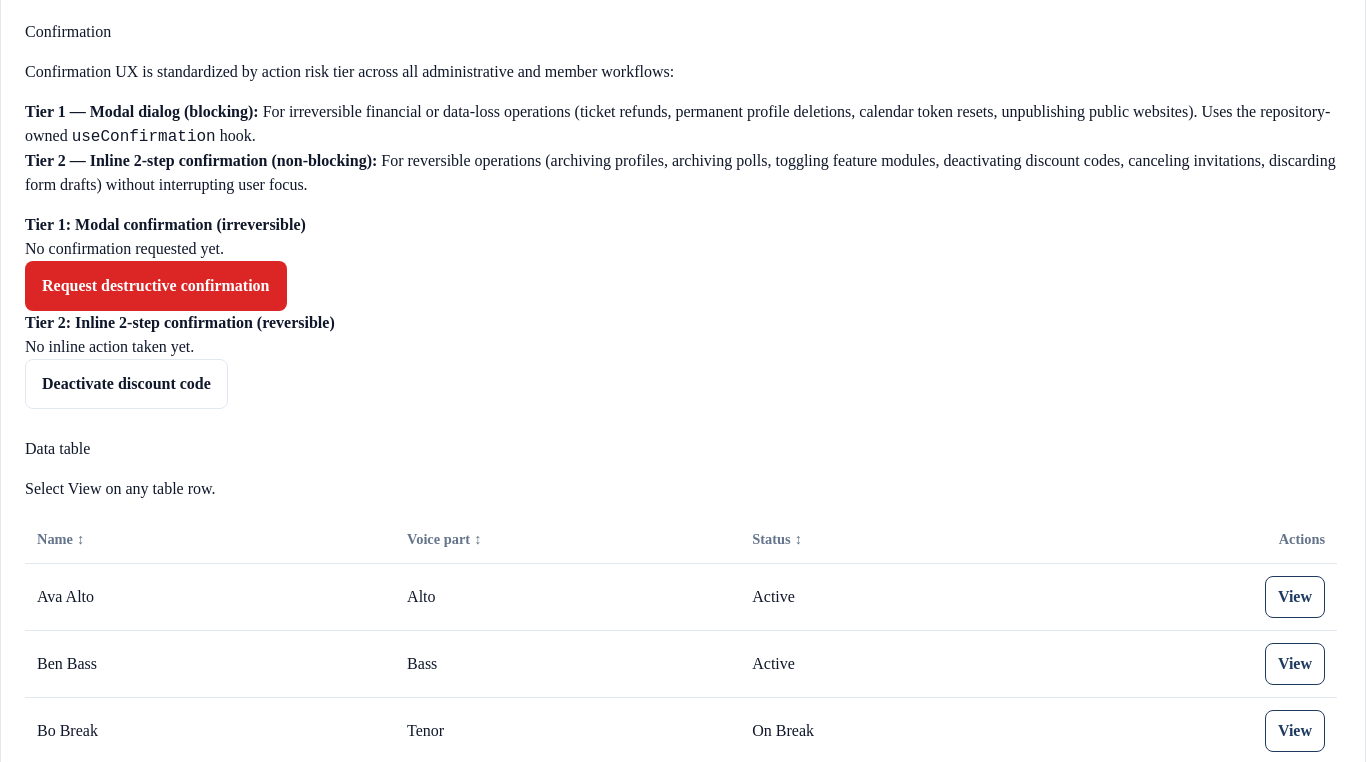
Test case: DesignSystemView tiered confirmation UX › handles Tier 2 inline 2-step confirmation with cancel and confirm flows
(page scrolled)
Click the button "Deactivate discount code" at (126, 384), box [25,359,228,409]
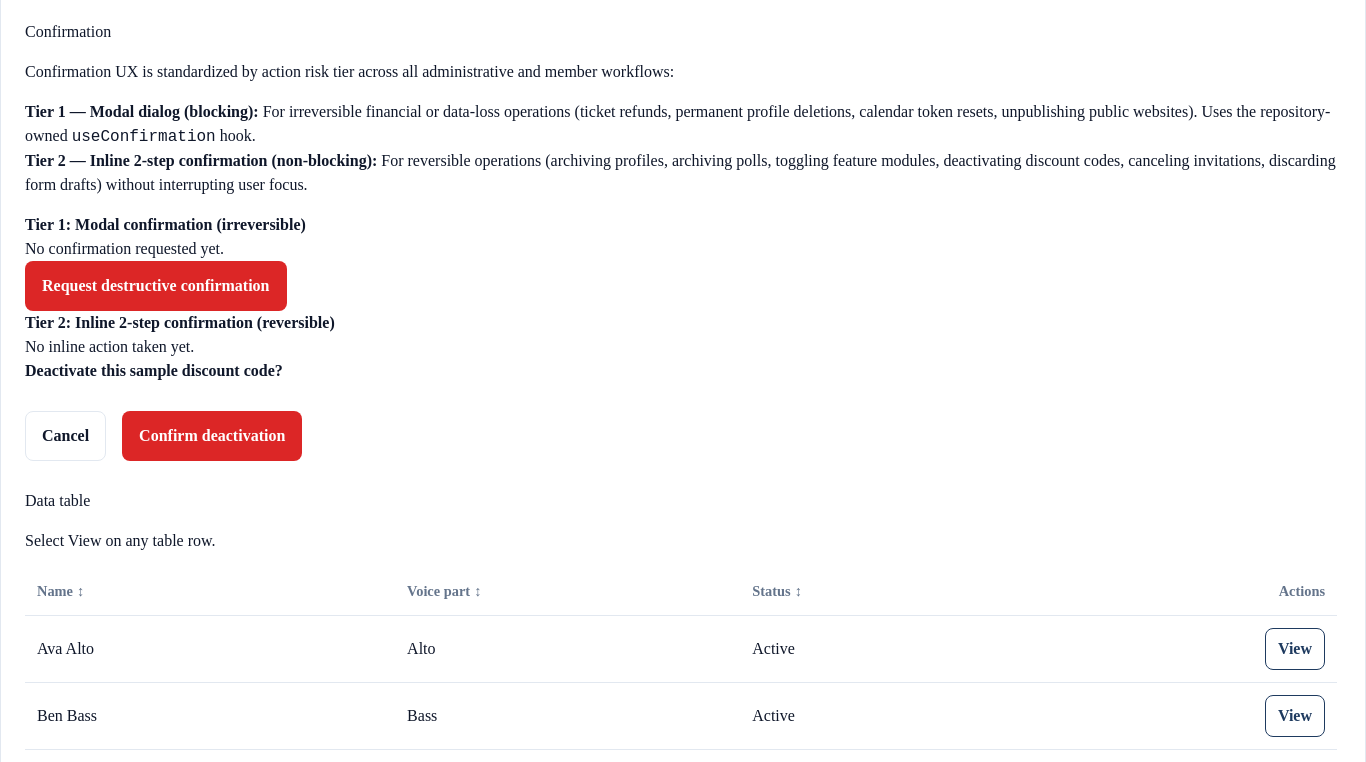
Result: the text "Deactivate this sample discount code?" is shown at [25,359,302,383]
Click the button "Cancel" at (66, 436), box [25,411,106,461]
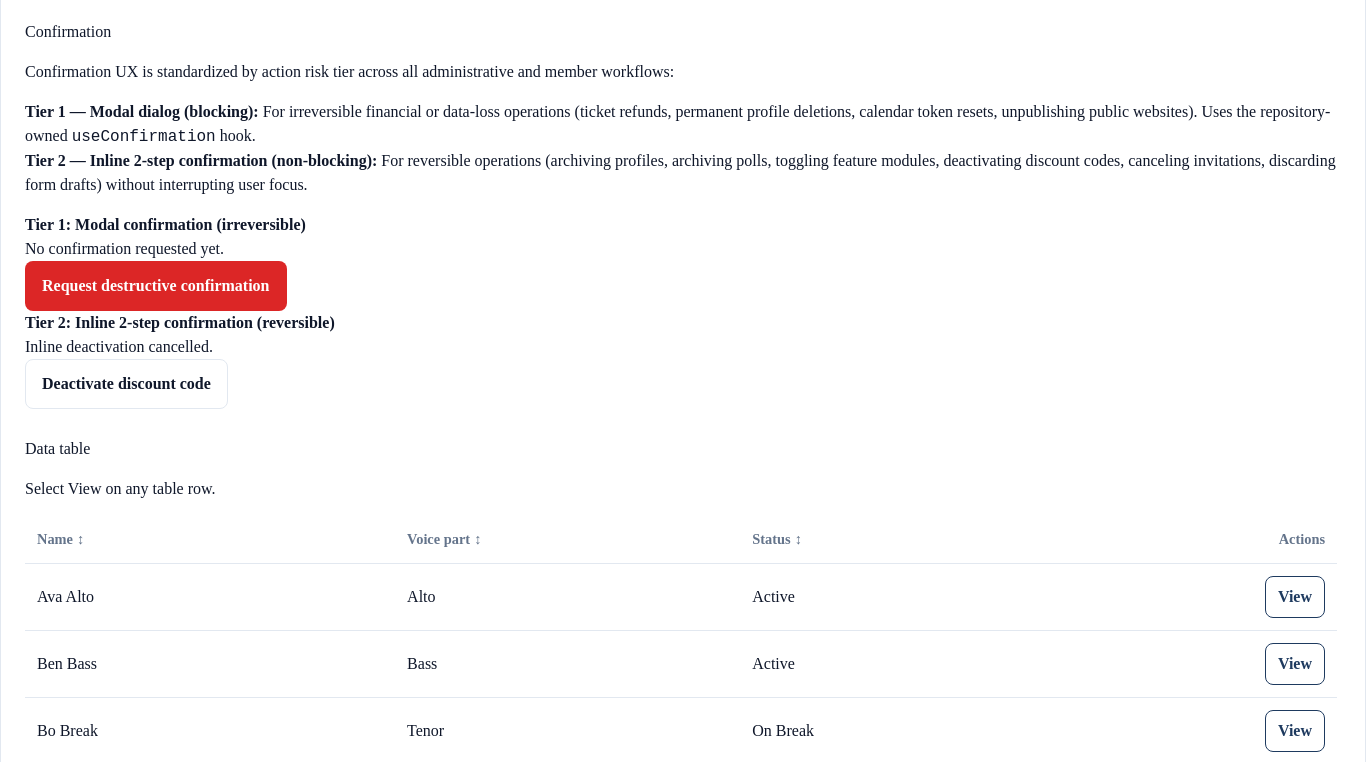
Result: the text "Deactivate this sample discount code?" is gone
Result: the text "Inline deactivation cancelled." is shown at [25,338,213,355]
Click the button "Deactivate discount code" at (126, 384), box [25,359,228,409]
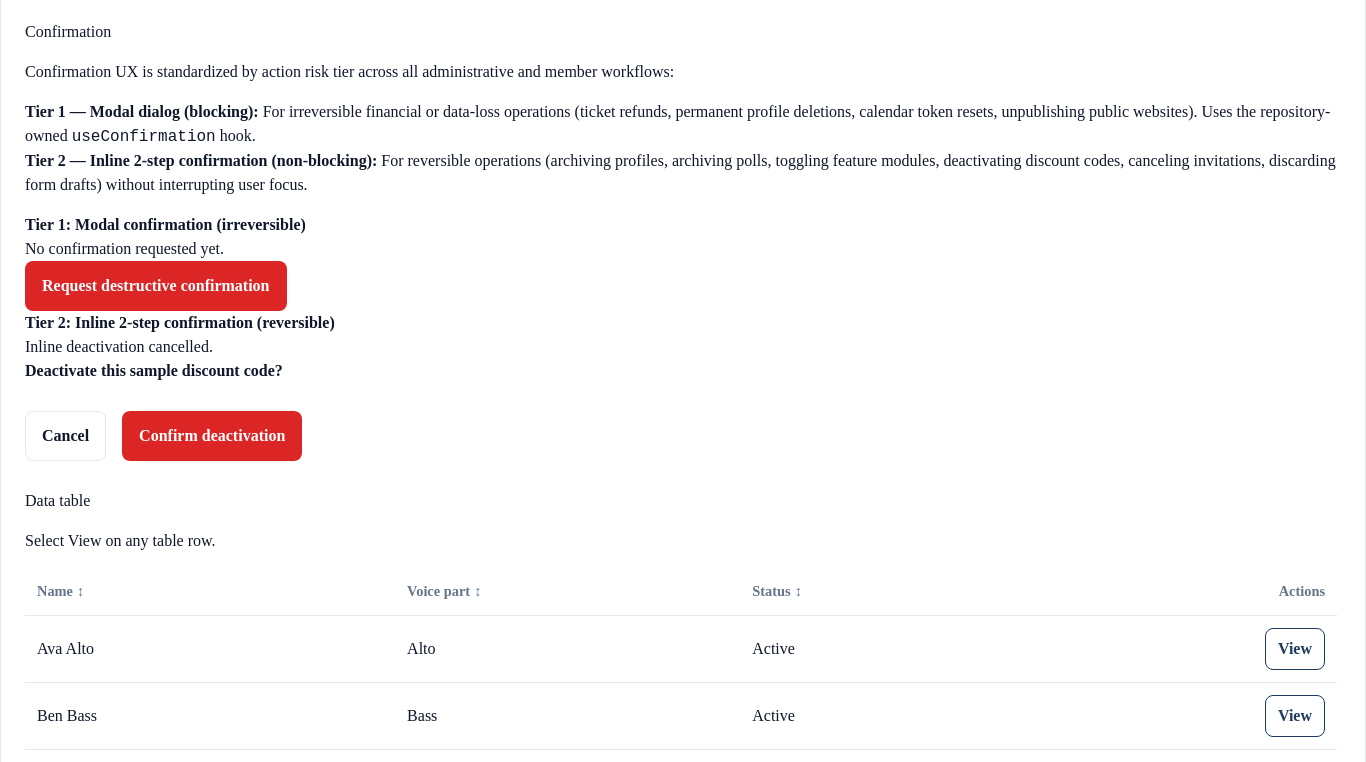
Click the button "Confirm deactivation" at (212, 436), box [122,411,302,461]
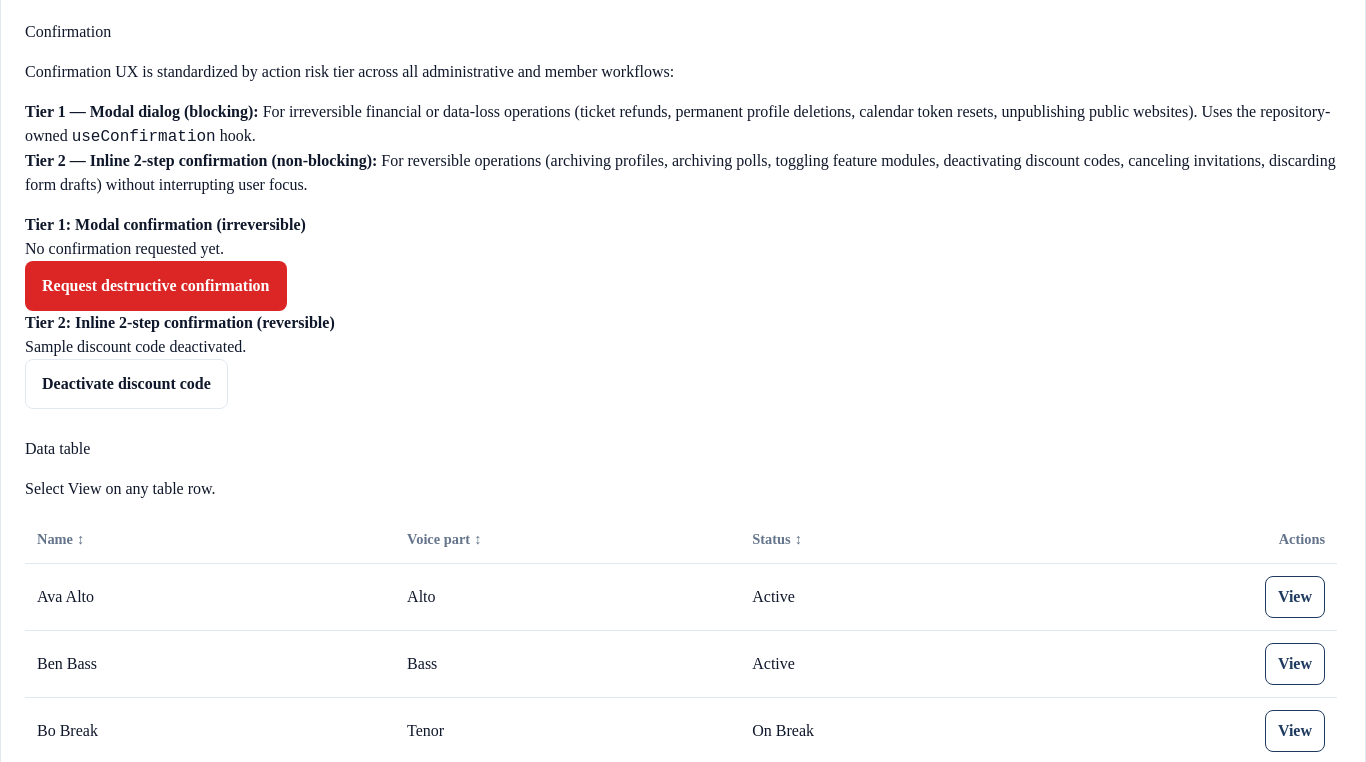
Result: the text "Deactivate this sample discount code?" is gone
Result: the text "Sample discount code deactivated." is shown at [25,338,246,355]
